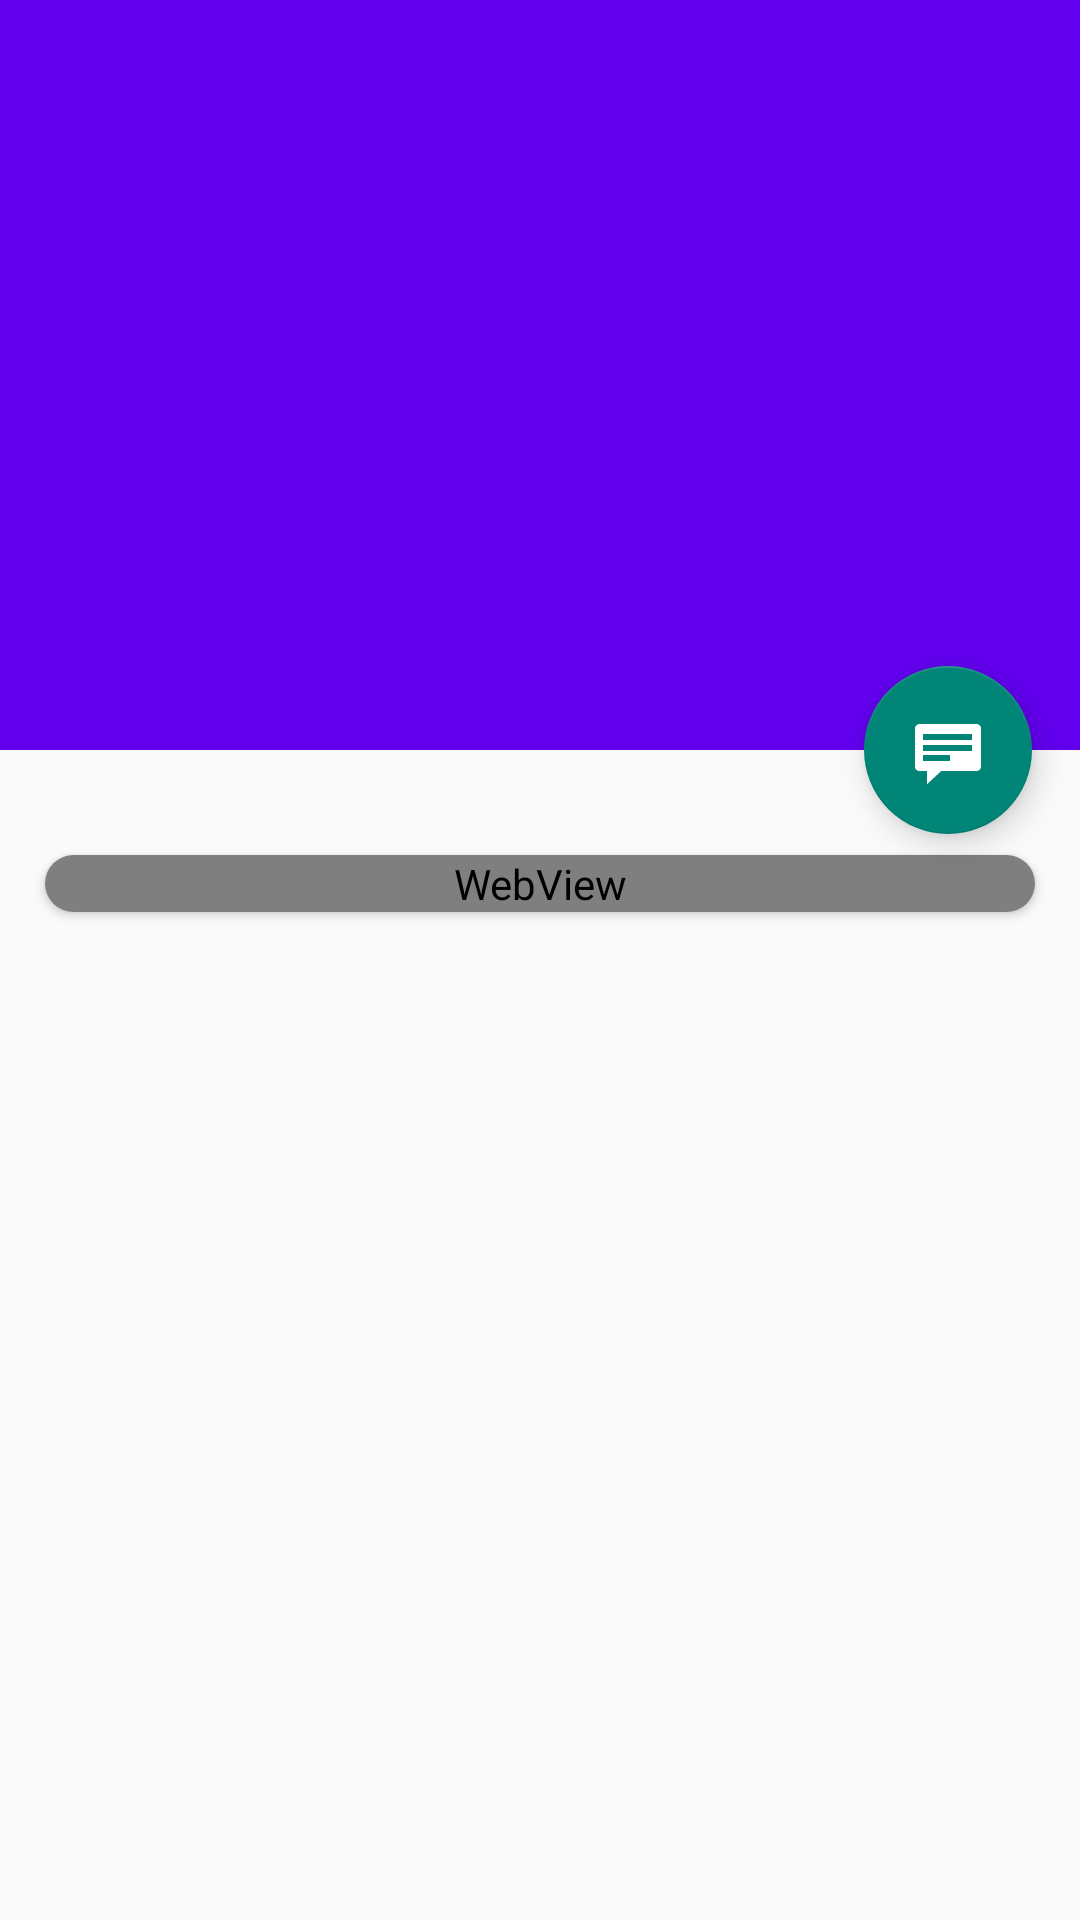

Point at icon controls on the screen. Image size 1080*1920, points as (x=x, y=y).
chat: (x=948, y=750)
